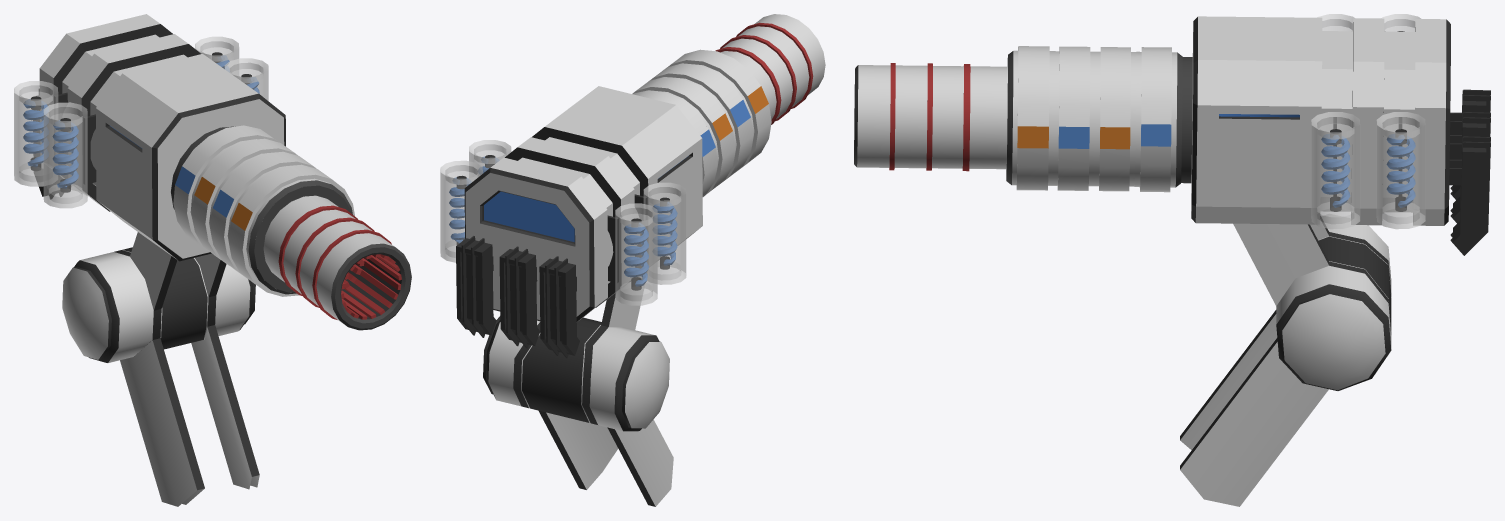
Rendered from tower_eon_cannon_upgrade1_asset.fbx.
3 views of the same model, side by side, from view 1: azimuth 30°, elevation 25°; view 2: azimuth 150°, elevation 25°; view 3: azimuth 270°, elevation 25° (orthographic). The views are drawn at different scales.
Parts seen in each view (by area): view 1: eon_cannon2_top, eon_cannon2_bottom, passive_twisting1, passive_twisting4, passive_twisting3, passive_twisting2; view 2: eon_cannon2_top, eon_cannon2_bottom, passive_twisting1, passive_twisting2, passive_twisting3, passive_twisting4; view 3: eon_cannon2_top, eon_cannon2_bottom, passive_twisting1, passive_twisting4, passive_twisting2, passive_twisting3.
Part boxes in pixels (x1,y1,x2,y2): eon_cannon2_top: (14,14,411,362); eon_cannon2_bottom: (120,325,259,506); passive_twisting1: (228,164,354,296); passive_twisting4: (173,125,279,249); passive_twisting3: (191,138,298,265); passive_twisting2: (210,151,316,278); eon_cannon2_top: (440,14,825,431); eon_cannon2_bottom: (539,411,673,506); passive_twisting1: (667,49,771,170); passive_twisting2: (649,63,753,184); passive_twisting3: (632,77,735,194); passive_twisting4: (632,90,717,196); eon_cannon2_top: (854,14,1490,390); eon_cannon2_bottom: (1180,310,1328,506); passive_twisting1: (1012,46,1054,190); passive_twisting4: (1134,47,1177,192); passive_twisting2: (1052,46,1095,190); passive_twisting3: (1094,47,1136,191).
Size of the model in its own units: 11.73 by 20.61 by 26.64.
